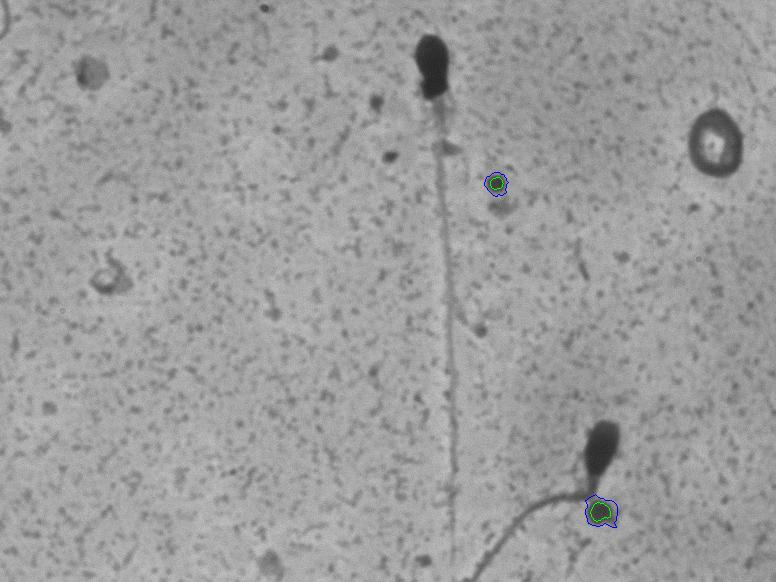Abnormal: (399, 24, 487, 516), (495, 390, 629, 569)
